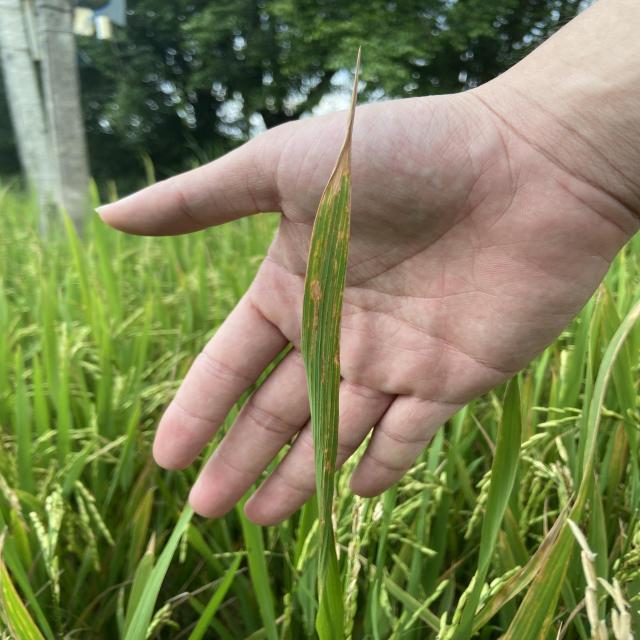Dom soc vi khuan: (310, 279, 324, 360), (324, 207, 334, 249), (330, 291, 337, 337), (334, 232, 345, 256), (313, 239, 321, 258), (321, 355, 326, 383), (334, 259, 338, 274)
